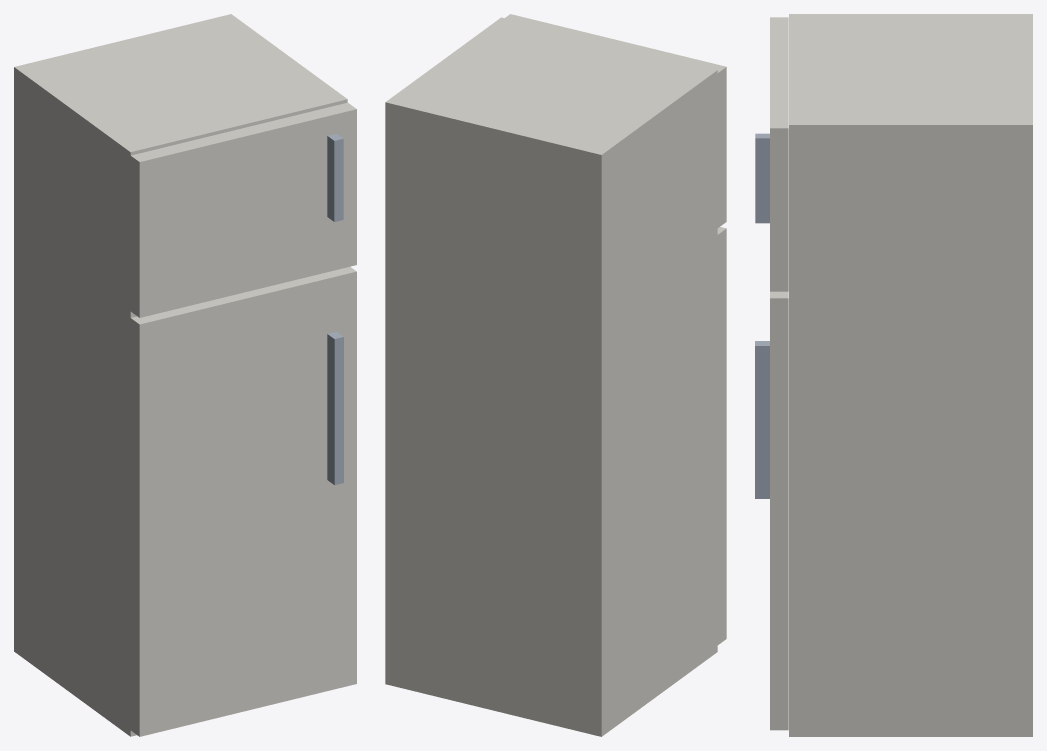
Rendered from fridge.glb.
3 renders of one model, left to right at view 1: azimuth 30°, elevation 25°; view 2: azimuth 150°, elevation 25°; view 3: azimuth 270°, elevation 25°, orthographic. The views are drawn at different scales.
Parts seen in each view (by area): view 1: Fridge case, Fridge door, Freezer door, Fridge handle, Freezer handle; view 2: Fridge case, Fridge door, Freezer door; view 3: Fridge case, Fridge door, Freezer door, Fridge handle, Freezer handle.
Boxes of the visible parts, x1,y1,x2,y2 form: Fridge case: (14,14,347,736); Fridge door: (130,267,356,736); Freezer door: (130,102,356,317); Fridge handle: (327,331,343,485); Freezer handle: (327,133,343,221); Fridge case: (385,17,717,736); Fridge door: (717,227,726,644); Freezer door: (505,14,726,227); Fridge case: (789,14,1032,736); Fridge door: (770,291,788,730); Freezer door: (770,17,788,291); Fridge handle: (755,341,769,498); Freezer handle: (755,133,769,223).
Bounding box in the file's own units: 0.7 × 1.8 × 0.741.
